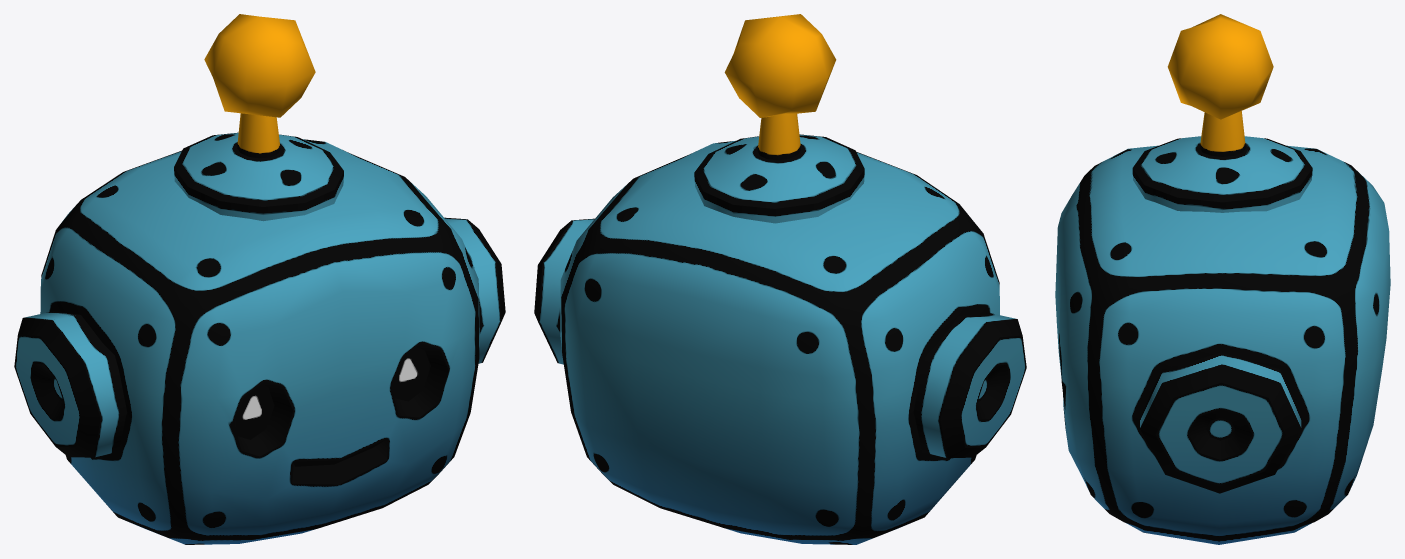
File: Tinker.glb
3 views of the same model, side by side, from view 1: azimuth 30°, elevation 25°; view 2: azimuth 150°, elevation 25°; view 3: azimuth 270°, elevation 25° (orthographic). The views are drawn at different scales.
Parts seen in each view (by area): view 1: Bot; view 2: Bot; view 3: Bot.
Boxes of the visible parts, x1,y1,x2,y2 form: Bot: [14, 14, 505, 544]; Bot: [534, 14, 1026, 544]; Bot: [1055, 14, 1390, 544].
Size of the model in its own units: 3.58 by 3.89 by 2.43.
1 material, 1 textured.
